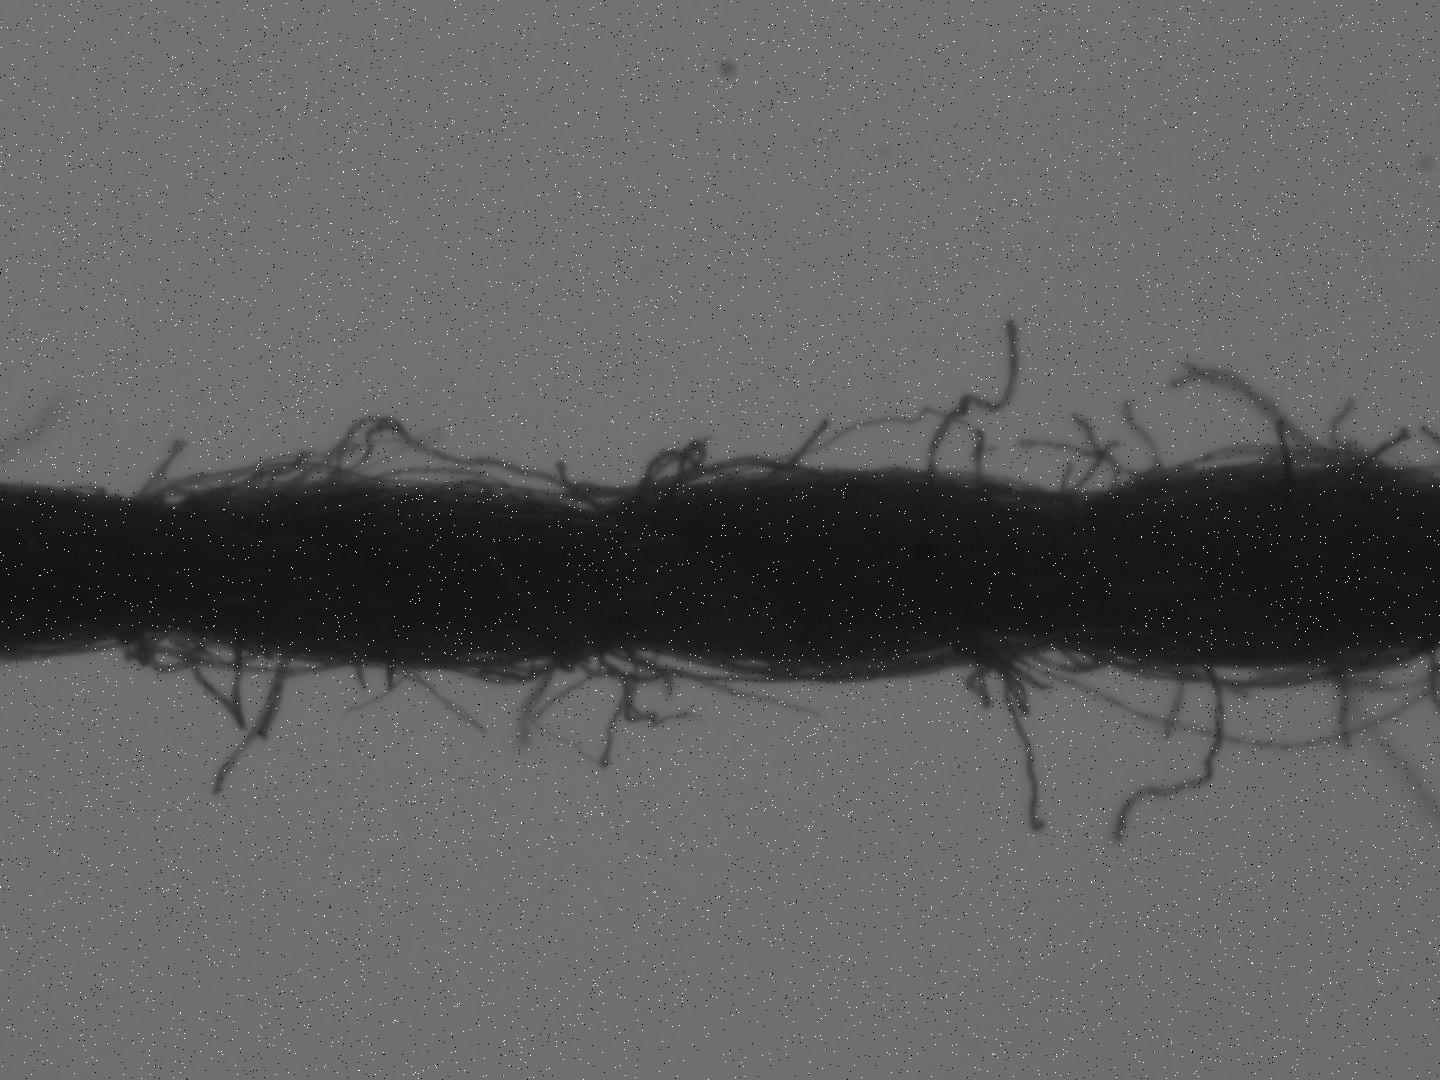loop_fiber: (253, 411, 653, 524), (124, 458, 433, 520), (103, 619, 247, 739), (1150, 444, 1380, 488), (643, 454, 819, 495), (629, 447, 736, 496), (451, 658, 566, 689), (1019, 642, 1115, 677)
protruding_fiber: (924, 311, 1022, 472), (1003, 652, 1044, 838), (349, 664, 370, 694)
